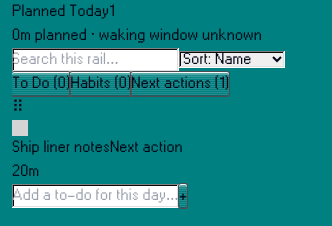
Test: PlannedTasksSidebar › lists searchable Next actions from Lists membership for the period
This screenshot has width=332, height=226.
Check: the button "Next actions (1)" is shown, box [131,72,229,96]
Check: the text "Ship liner notes" is shown, box [12,140,110,155]
In the search field named "Search planned items": (96, 60) [12,48,179,72], type "missing"
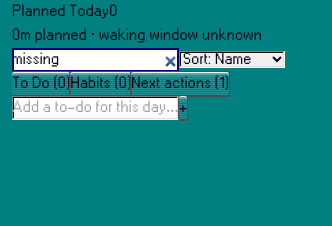
Check: the text "Ship liner notes" is gone
